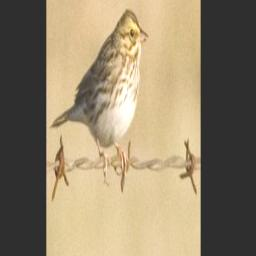Sparrow: (50, 2, 150, 185)
